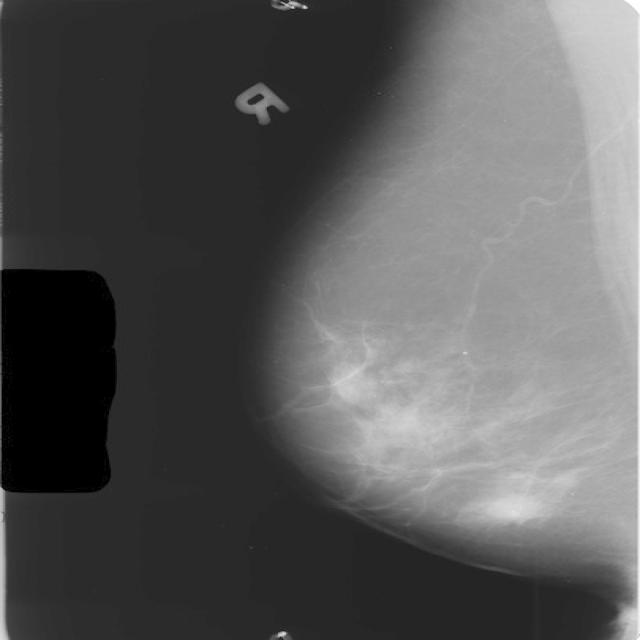tumour: (482, 496, 548, 524)
